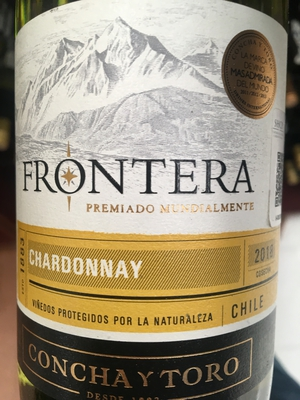frontera chardonnay: (13, 7, 288, 400)
